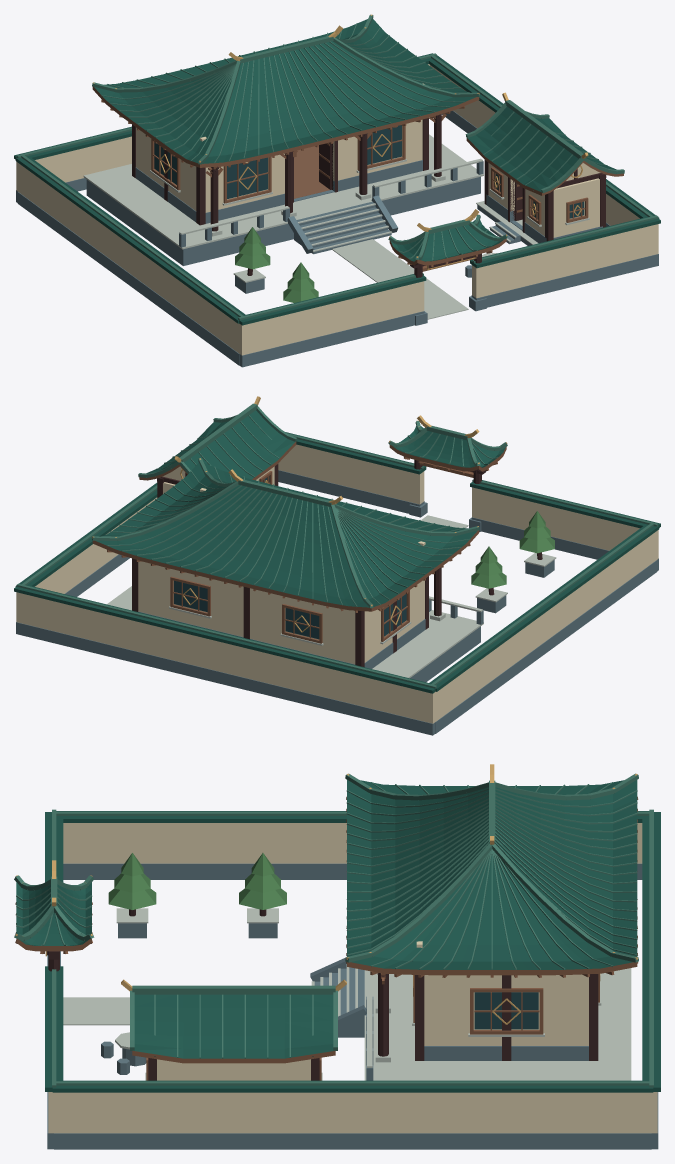
File: elder_residence.glb
3 views of the same model, one above another, from view 1: azimuth 30°, elevation 25°; view 2: azimuth 150°, elevation 25°; view 3: azimuth 270°, elevation 25° (orthographic). The views are drawn at different scales.
Visible parts, largest first — view 1: ElderResidence / Jade, ElderResidence / Plaster, ElderResidence / Stone, ElderResidence / TileLight, ElderResidence / Coping, ElderResidence / Timber, ElderResidence / Cedar, ElderResidence / Window, ElderResidence / Leaf, ElderResidence / Floor, ElderResidence / Bronze; view 2: ElderResidence / Plaster, ElderResidence / Jade, ElderResidence / TileLight, ElderResidence / Stone, ElderResidence / Cedar, ElderResidence / Coping, ElderResidence / Timber, ElderResidence / Window, ElderResidence / Leaf, ElderResidence / Bronze; view 3: ElderResidence / Jade, ElderResidence / Plaster, ElderResidence / TileLight, ElderResidence / Stone, ElderResidence / Coping, ElderResidence / Cedar, ElderResidence / Timber, ElderResidence / Leaf, ElderResidence / Window, ElderResidence / Bronze.
Part boxes in pixels (x1,y1,x2,y2): ElderResidence / Jade: [14, 19, 660, 325]; ElderResidence / Plaster: [16, 64, 658, 355]; ElderResidence / Stone: [16, 110, 658, 367]; ElderResidence / TileLight: [16, 14, 658, 320]; ElderResidence / Coping: [83, 134, 589, 319]; ElderResidence / Timber: [132, 114, 606, 277]; ElderResidence / Cedar: [92, 86, 623, 271]; ElderResidence / Window: [154, 125, 584, 219]; ElderResidence / Leaf: [235, 227, 318, 302]; ElderResidence / Floor: [294, 145, 329, 198]; ElderResidence / Bronze: [93, 14, 588, 269]; ElderResidence / Plaster: [16, 444, 658, 723]; ElderResidence / Jade: [14, 410, 660, 693]; ElderResidence / TileLight: [16, 403, 658, 688]; ElderResidence / Stone: [16, 470, 658, 735]; ElderResidence / Cedar: [92, 441, 506, 643]; ElderResidence / Coping: [107, 503, 556, 678]; ElderResidence / Timber: [132, 460, 542, 667]; ElderResidence / Window: [174, 476, 406, 639]; ElderResidence / Leaf: [471, 511, 554, 588]; ElderResidence / Bronze: [92, 396, 507, 632]; ElderResidence / Jade: [16, 779, 660, 1092]; ElderResidence / Plaster: [48, 823, 657, 1133]; ElderResidence / TileLight: [14, 773, 653, 1087]; ElderResidence / Stone: [47, 863, 658, 1149]; ElderResidence / Coping: [63, 908, 631, 1080]; ElderResidence / Cedar: [15, 796, 638, 1080]; ElderResidence / Timber: [16, 909, 598, 1080]; ElderResidence / Leaf: [108, 853, 286, 909]; ElderResidence / Window: [474, 992, 538, 1029]; ElderResidence / Bronze: [15, 764, 637, 1024].
Size of the model in its own units: 22.64 by 8.05 by 22.3.
